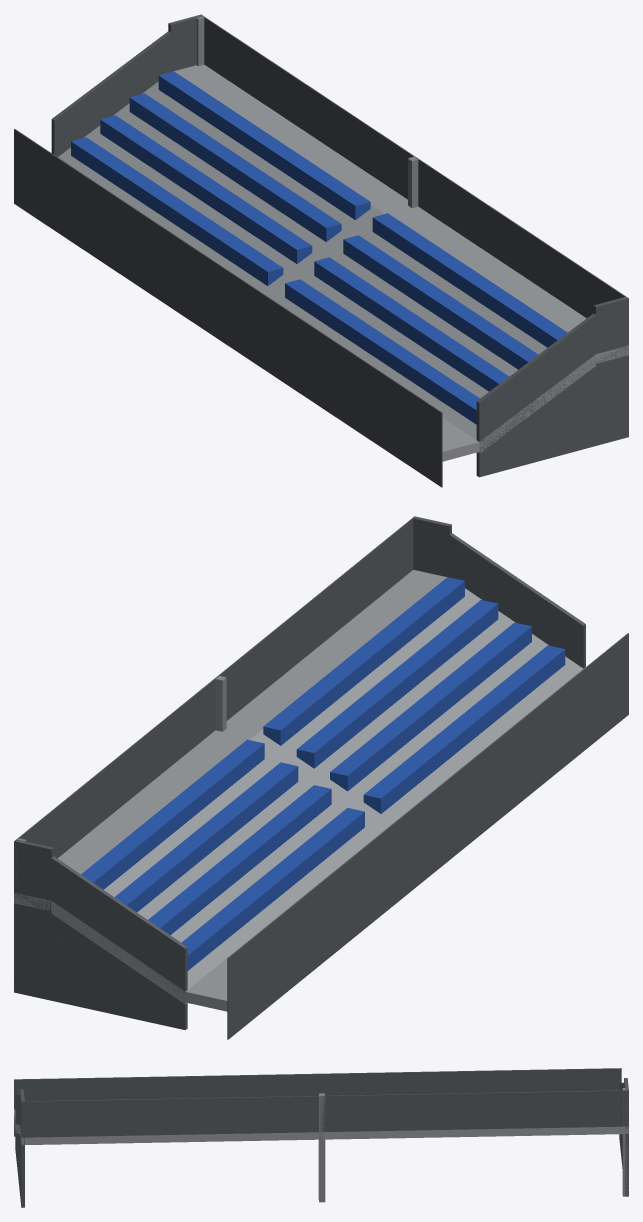
Rendered from mza_stand_trib_p09.glb.
3 renders of one model, top to bottom at view 1: azimuth 30°, elevation 25°; view 2: azimuth 150°, elevation 25°; view 3: azimuth 270°, elevation 25°, orthographic. The views are drawn at different scales.
Parts seen in each view (by area): view 1: monza-trib-p09; view 2: monza-trib-p09; view 3: monza-trib-p09.
Part boxes in pixels (box(x1,y1,x2,y2)): monza-trib-p09: box(14, 14, 628, 487); monza-trib-p09: box(14, 516, 628, 1039); monza-trib-p09: box(14, 1068, 628, 1207).
Size of the model in its own units: 5.93 by 3.54 by 18.6.
